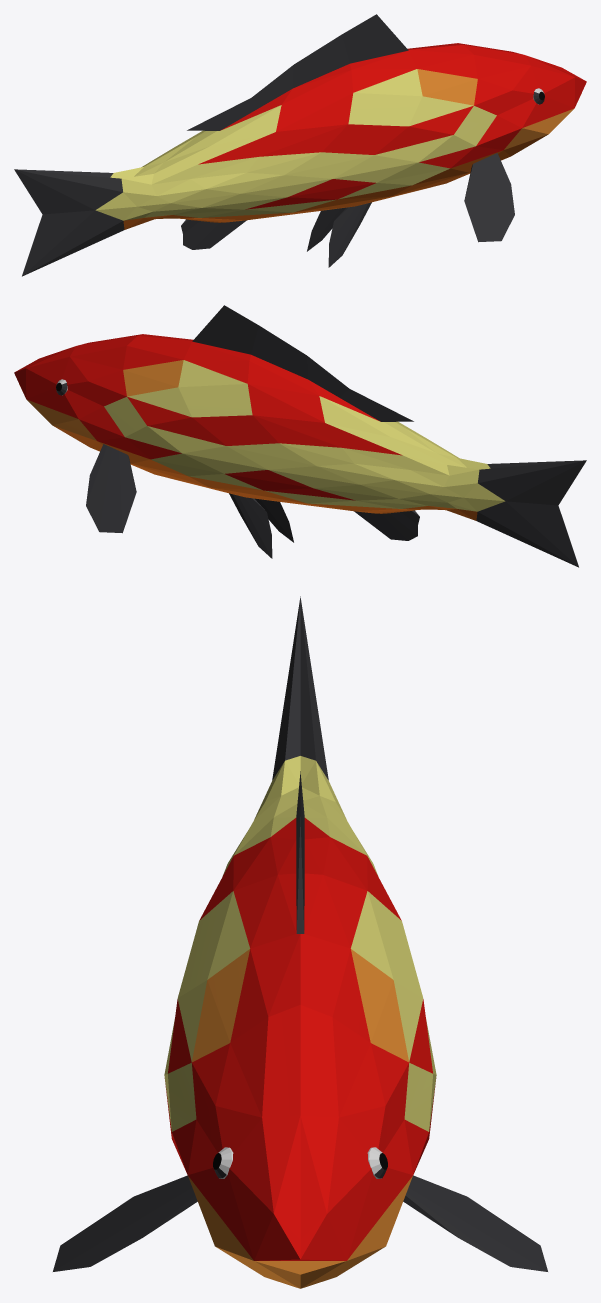
Rendered from Fish.obj.
3 views of the same model, one above another, from view 1: azimuth 30°, elevation 25°; view 2: azimuth 150°, elevation 25°; view 3: azimuth 270°, elevation 25° (orthographic). The views are drawn at different scales.
Parts seen in each view (by area): view 1: koi.001_Icosphere.002; view 2: koi.001_Icosphere.002; view 3: koi.001_Icosphere.002.
Boxes of the visible parts, x1,y1,x2,y2 form: koi.001_Icosphere.002: (14, 14, 586, 276); koi.001_Icosphere.002: (14, 305, 586, 567); koi.001_Icosphere.002: (53, 596, 547, 1288).
Size of the model in its own units: 1 by 0.3878 by 0.3761.
